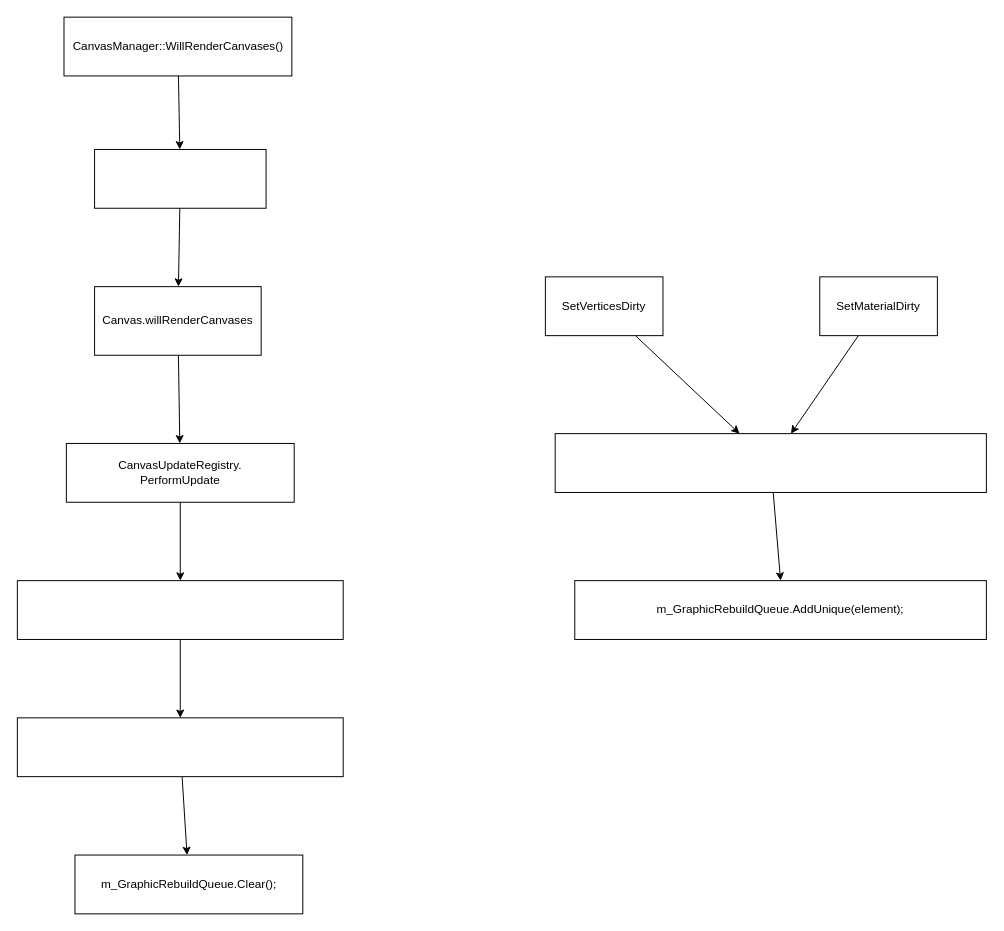
Image size: 1004x931. Some labels were removed from this diagram. The centre of each missing label's shape, as x and y in pixels:
"CanvasUpdateRegistry.RegisterCanvasElementForGraphicRebuild(this);" belongs at point (770, 462).
"m_GraphicRebuildQueue[k].Rebuild((CanvasUpdate)i);" belongs at point (179, 609).
"SendWillRenderCanvases" belongs at point (180, 178).
"Text.UpdateGeometry()" belongs at point (179, 747).
